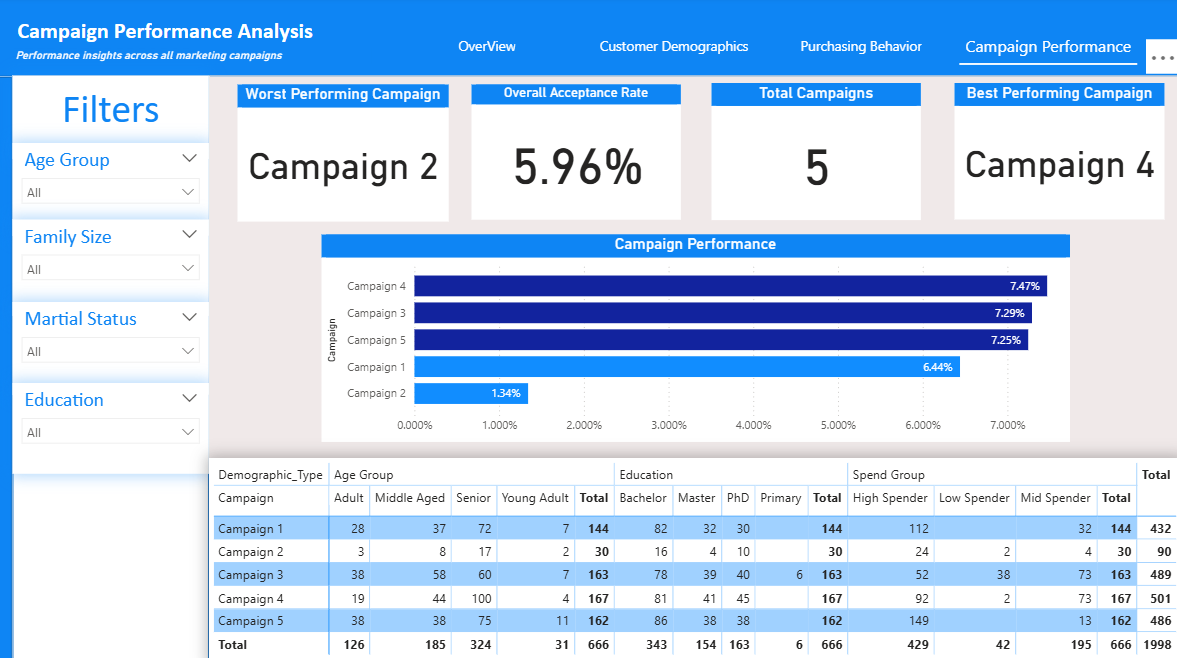

The page's visual inventory and layout, read from the dashboard file:
{"tool":"powerbi","page":{"name":"Campaign Performance ","canvas":[1280,720],"ordinal":3},"visuals":[{"type":"shape","box":[0,0,1281.3,86.9],"z":0},{"type":"shape","box":[0,86.9,17,633.1],"z":1000},{"type":"textbox","title":"Campaign Performance Analysis","box":[17,22.7,340.2,34],"z":2000},{"type":"textbox","title":"Performance insights across all marketing campaigns","box":[16.6,57.1,389,16.6],"z":3000},{"type":"shape","box":[18,86,212,634],"z":4000},{"type":"textbox","title":"Filters","box":[18,86,212,90],"z":5000},{"type":"slicer","fields":{"Values":["Marketing Campaign CLeaned.Age_Group"]},"box":[18,158,212,100],"z":6000},{"type":"slicer","fields":{"Values":["Marketing Campaign CLeaned.FamilySize"]},"box":[18,242,212,104],"z":7000},{"type":"slicer","fields":{"Values":["Marketing Campaign CLeaned.Marital_Status"]},"box":[18,330,212,100],"z":8000},{"type":"slicer","fields":{"Values":["Marketing Campaign CLeaned.Education"]},"box":[18,418,212,98],"z":9000},{"type":"shape","box":[230,86,1050,634],"z":10000},{"type":"card","title":"Total Campaigns","fields":{"Values":["Marketing Campaign CLeaned.Total Campaigns"]},"box":[772,94,226,148],"z":11000},{"type":"card","title":"Overall Acceptance Rate ","fields":{"Values":["Marketing Campaign CLeaned.Overall Acceptance Rate"]},"box":[514,96,226,146],"z":12000},{"type":"card","title":"Best Performing Campaign","fields":{"Values":["Marketing Campaign CLeaned.Best Performing Campaign"]},"box":[1034.2,94,226.8,147.5],"z":13000},{"type":"card","title":"Worst Performing Campaign","fields":{"Values":["Marketing Campaign CLeaned.Worst Performing Campaign"]},"box":[260,96,228,148],"z":14000},{"type":"clusteredBarChart","title":"Campaign Performance","fields":{"Category":["Campaign Performance.Campaign"],"Y":["Sum(Campaign Performance.Acceptance Rate)"]},"box":[352,258,808,224],"z":15000},{"type":"pivotTable","title":"d","fields":{"Columns":["Campaign_Demographic_Performance.Demographic_Type","Campaign_Demographic_Performance.Demographic_Value"],"Values":["Sum(Campaign_Age_Performance.Responses)"],"Rows":["Campaign_Age_Performance.Campaign"]},"box":[230,498,1050,222],"z":16000},{"type":"pageNavigator","box":[433.2,33.2,800.1,42.4],"z":16001}]}

Visuals, with their boxes in screenshot pixels (x1, y1, x2, y2), scaled from the page's 1280x720 canvas onto the 1177x658 screenshot:
shape: [0, 0, 1176, 79]
shape: [0, 79, 16, 657]
"Campaign Performance Analysis" textbox: [16, 21, 328, 52]
"Performance insights across all marketing campaigns" textbox: [15, 52, 373, 67]
shape: [17, 79, 211, 657]
"Filters" textbox: [17, 79, 211, 161]
slicer - Marketing Campaign CLeaned.Age_Group: [17, 144, 211, 236]
slicer - Marketing Campaign CLeaned.FamilySize: [17, 221, 211, 316]
slicer - Marketing Campaign CLeaned.Marital_Status: [17, 302, 211, 393]
slicer - Marketing Campaign CLeaned.Education: [17, 382, 211, 472]
shape: [211, 79, 1176, 657]
"Total Campaigns" card: [710, 86, 918, 221]
"Overall Acceptance Rate " card: [473, 88, 680, 221]
"Best Performing Campaign" card: [951, 86, 1160, 221]
"Worst Performing Campaign" card: [239, 88, 449, 223]
"Campaign Performance" clusteredBarChart: [324, 236, 1067, 440]
"d" pivotTable: [211, 455, 1176, 657]
pageNavigator: [398, 30, 1134, 69]
